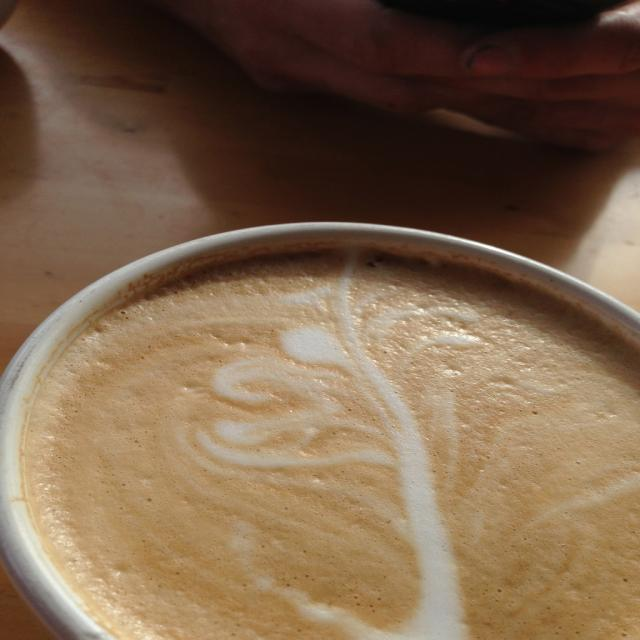latte: (3, 221, 640, 640)
